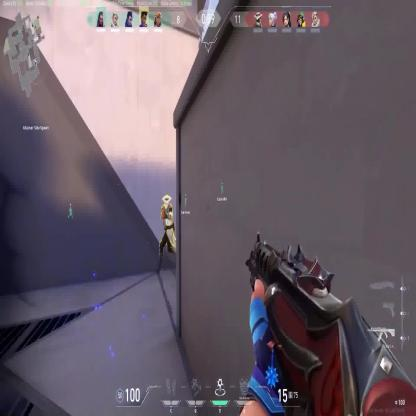enemy: (156, 193, 187, 276)
enemy_head: (162, 194, 172, 207)
